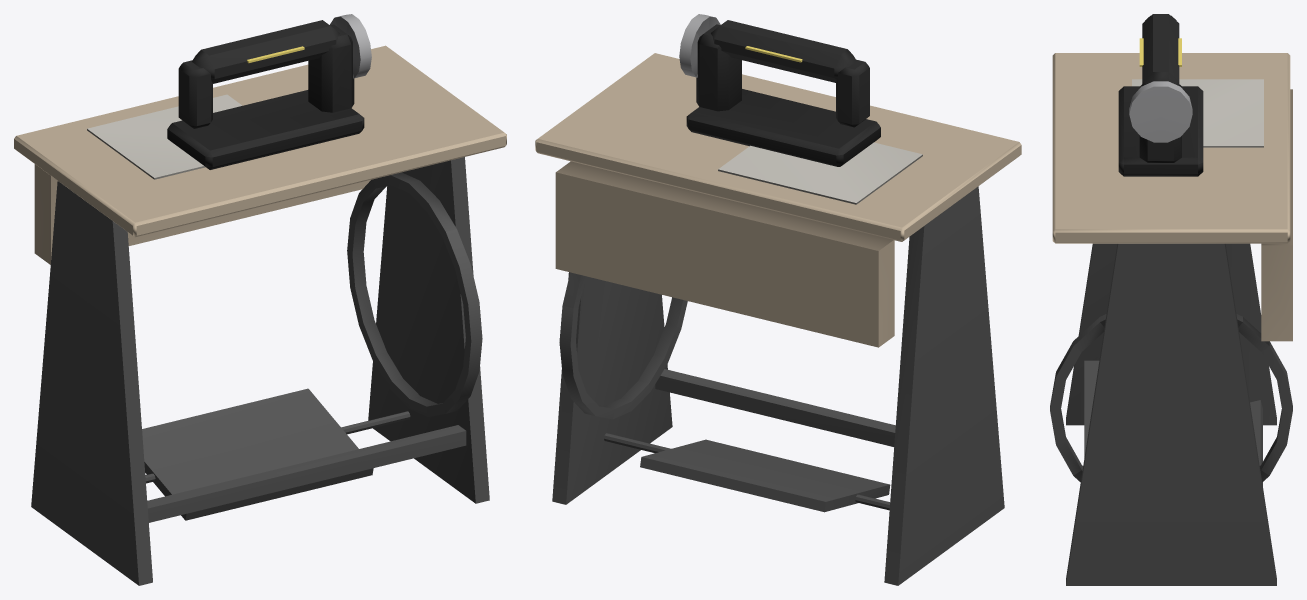
File: sewing_machine.glb
3 views of the same model, side by side, from view 1: azimuth 30°, elevation 25°; view 2: azimuth 150°, elevation 25°; view 3: azimuth 270°, elevation 25° (orthographic). The views are drawn at different scales.
Parts seen in each view (by area): view 1: static; view 2: static; view 3: static.
Boxes of the visible parts, box(x1,y1,x2,y2) form: static: box(14, 14, 506, 585); static: box(535, 14, 1021, 585); static: box(1050, 14, 1292, 585).
Bounding box in the file's own units: 0.8 × 0.96 × 0.46.
